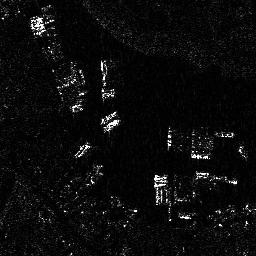ship: (101, 119, 122, 133)
